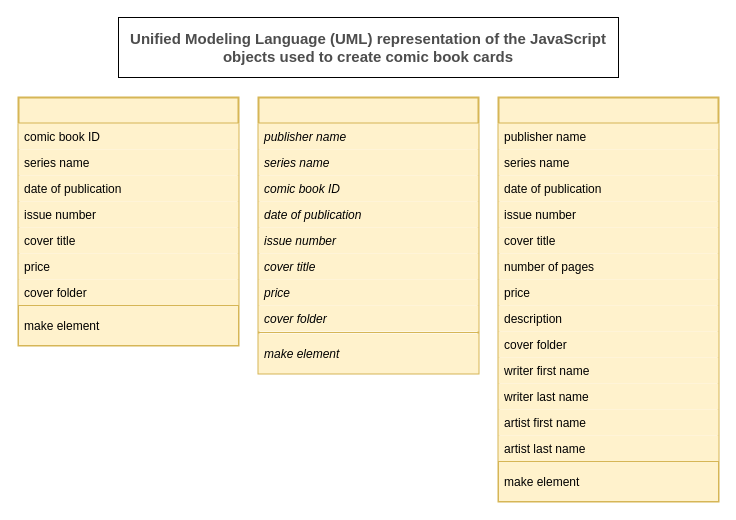
Some shapes in this 736 by 520 pixel diagram are drawn without their labels. Each missing label, with the box of its shape:
Best seller small card: (257, 96, 479, 374)
Comic book card: (497, 96, 719, 502)
Comic book small card: (17, 96, 239, 346)
